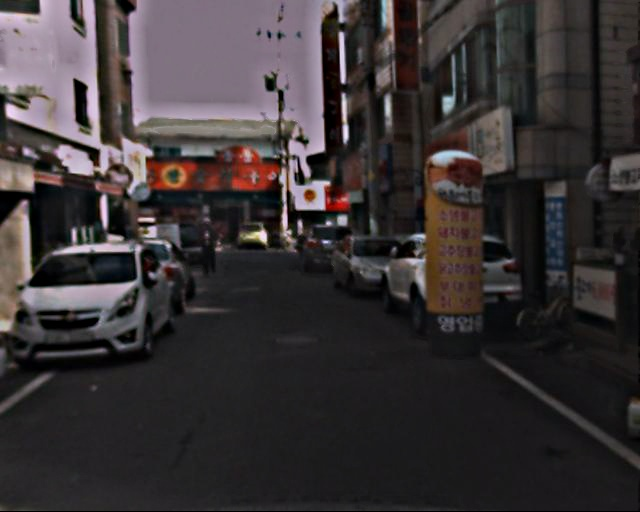person: (198, 220, 222, 275)
